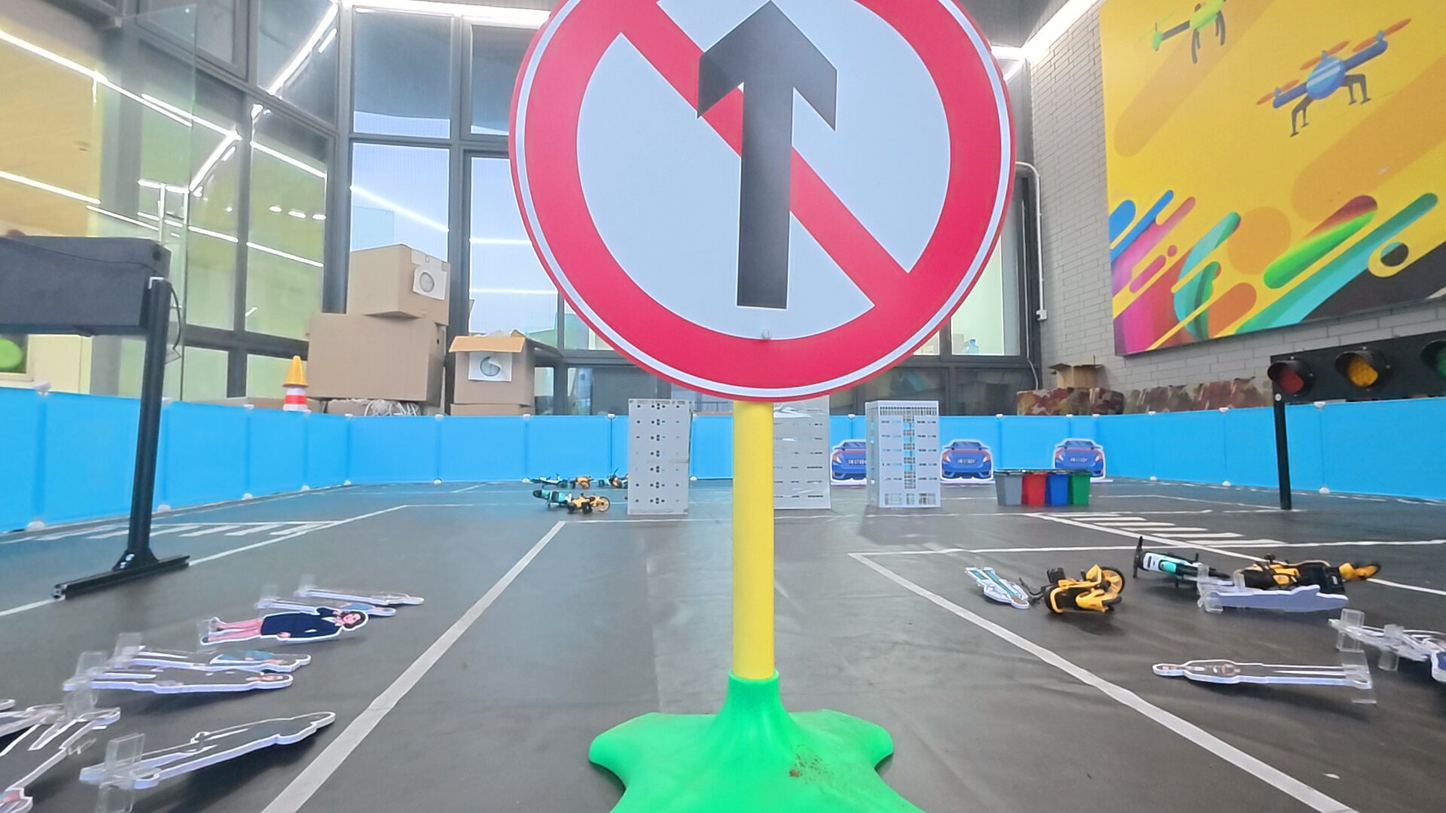obstacle: (510, 0, 1013, 402)
